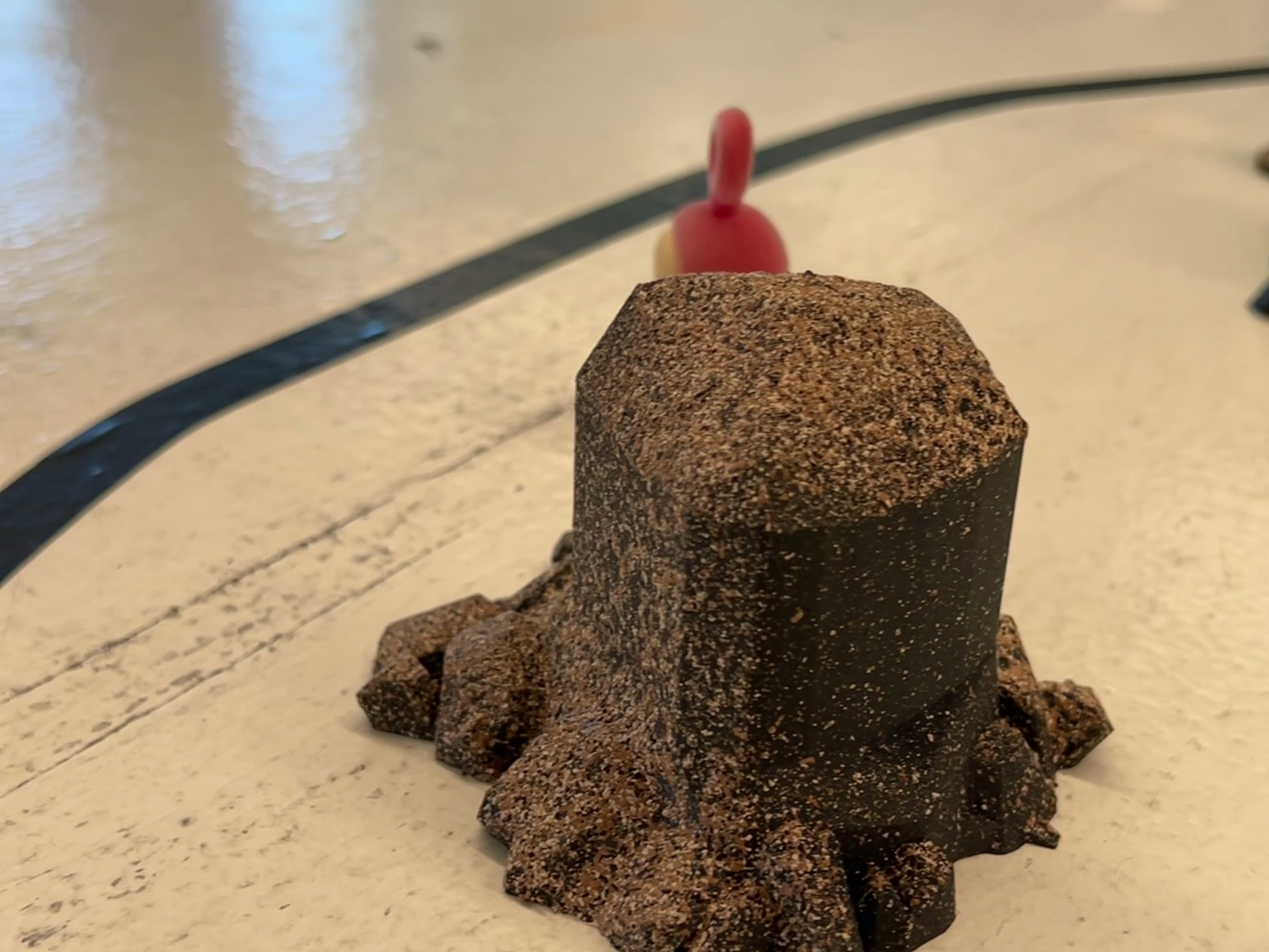teletubby: (655, 108, 788, 278)
